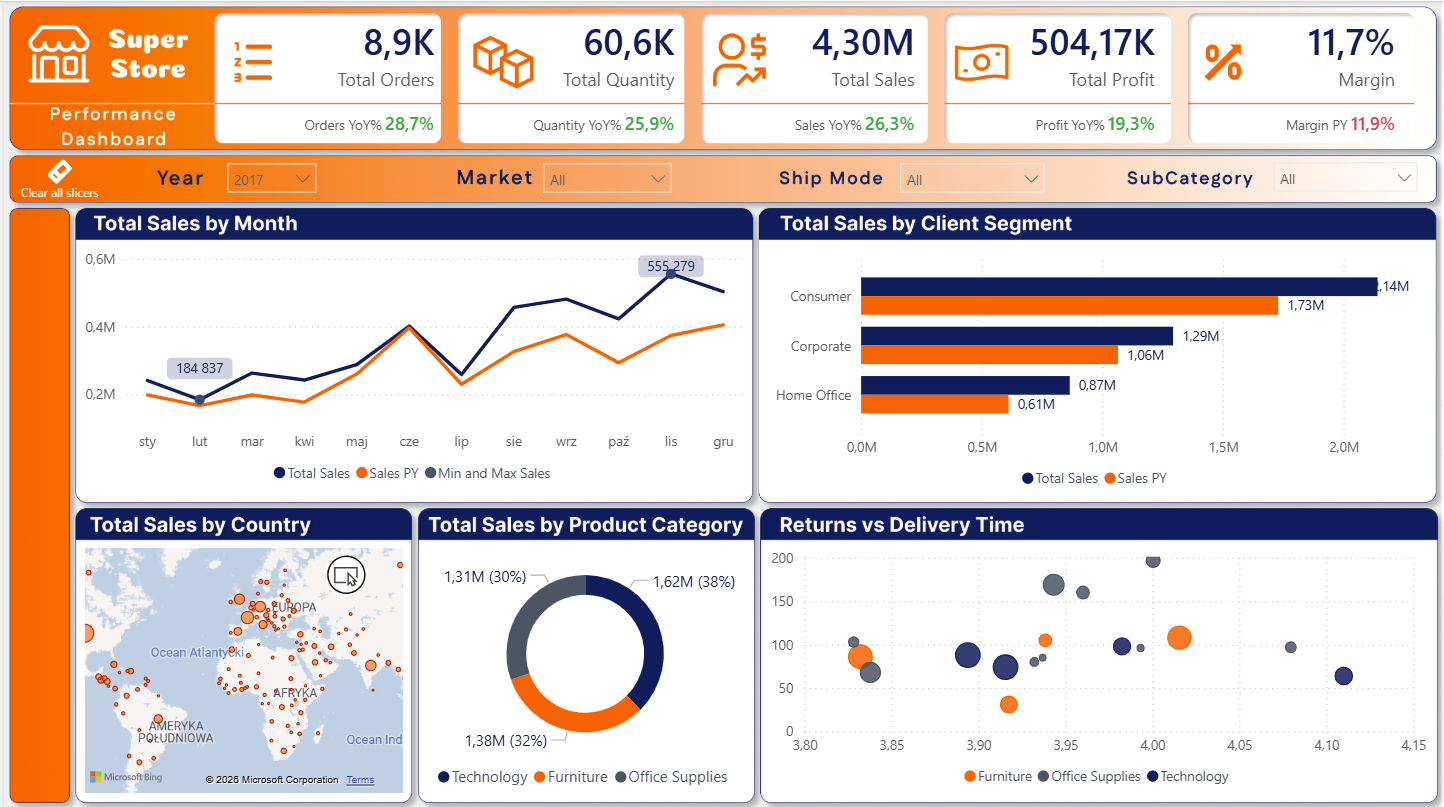

What the dashboard file says about the page in this screenshot:
{"tool":"powerbi","page":{"name":"MainPage","canvas":[1280,720],"ordinal":0},"visuals":[{"type":"cardVisual","fields":{"Data":["01_Measures.Total Orders","01_Measures.Total Quantity","01_Measures.Total Sales","01_Measures.Total Profit","01_Measures.Margin"]},"box":[168.6,0,1094.3,135.2],"z":0},{"type":"lineChart","fields":{"Y":["01_Measures.Total Sales","01_Measures.Sales PY","01_Measures.MaxMin Sales"],"Category":["DIM_Date.Month Name"]},"box":[66.8,214.8,594.9,222.4],"z":1000},{"type":"slicer","fields":{"Values":["DIM_Date.Year"]},"box":[187.7,133.6,98.6,44.5],"z":2000},{"type":"donutChart","fields":{"Category":["Dim_Product.Category"],"Y":["01_Measures.Total Sales"]},"box":[368.9,480.1,292.9,227.6],"z":3000},{"type":"clusteredBarChart","fields":{"Y":["01_Measures.Total Sales","01_Measures.Sales PY"],"Category":["Dim_Customer.Segment"]},"box":[672.8,214.7,591.7,227.5],"z":4000},{"type":"map","fields":{"Size":["01_Measures.Total Sales"],"Category":["Fact_Sales.Country"]},"box":[66.8,480.1,291.8,227.6],"z":5000},{"type":"scatterChart","fields":{"X":["01_Measures.Average Delivery Time"],"Y":["01_Measures.Total Returns"],"Category":["Dim_Product.SubCategory"],"Size":["01_Measures.Total Sales"],"Series":["Dim_Product.Category"]},"box":[674.5,480.1,591.8,226],"z":6000},{"type":"slicer","fields":{"Values":["Fact_Sales.Market"]},"box":[468.5,133.8,133.8,44.2],"z":7000},{"type":"slicer","fields":{"Values":["Dim_Product.SubCategory"]},"box":[1115.4,133,148.2,45.3],"z":8000},{"type":"slicer","fields":{"Values":["Fact_Sales.ShipMode"]},"box":[784.7,134.1,148.2,44.2],"z":9000},{"type":"actionButton","box":[0,133.9,98.4,49.7],"z":10000}]}

Visuals, with their boxes in screenshot pixels (x1, y1, x2, y2), scaled from the page's 1280x720 canvas onto the 1444x807 screenshot:
cardVisual - 01_Measures.Total Orders x 01_Measures.Total Quantity: <box>190,0,1425,152</box>
lineChart - 01_Measures.Total Sales x 01_Measures.Sales PY: <box>75,241,746,490</box>
slicer - DIM_Date.Year: <box>212,150,323,200</box>
donutChart - Dim_Product.Category x 01_Measures.Total Sales: <box>416,538,747,793</box>
clusteredBarChart - 01_Measures.Total Sales x 01_Measures.Sales PY: <box>759,241,1427,496</box>
map - 01_Measures.Total Sales x Fact_Sales.Country: <box>75,538,405,793</box>
scatterChart - 01_Measures.Average Delivery Time x 01_Measures.Total Returns: <box>761,538,1429,791</box>
slicer - Fact_Sales.Market: <box>529,150,679,200</box>
slicer - Dim_Product.SubCategory: <box>1258,149,1425,200</box>
slicer - Fact_Sales.ShipMode: <box>885,150,1052,200</box>
actionButton: <box>0,150,111,206</box>
